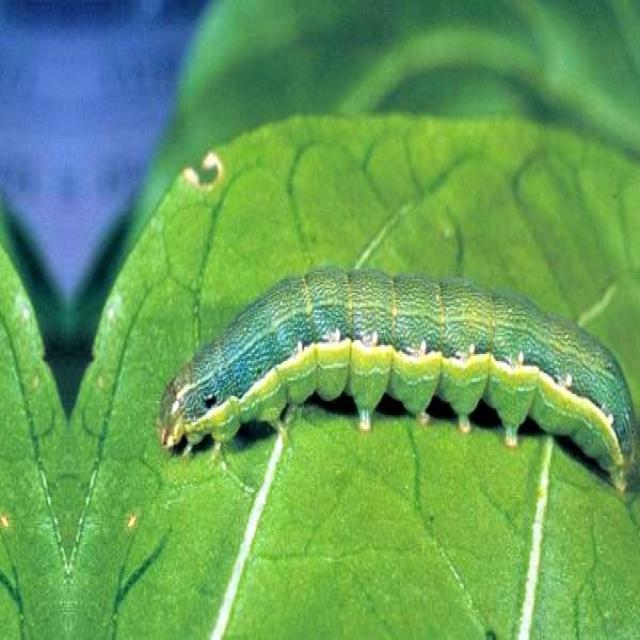Armyworm: (161, 212, 640, 544)
Armyworm_damage: (165, 132, 245, 225)
